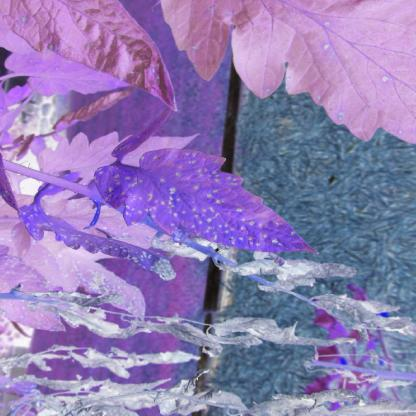tomato septoria leaf spot: (103, 145, 319, 250)
